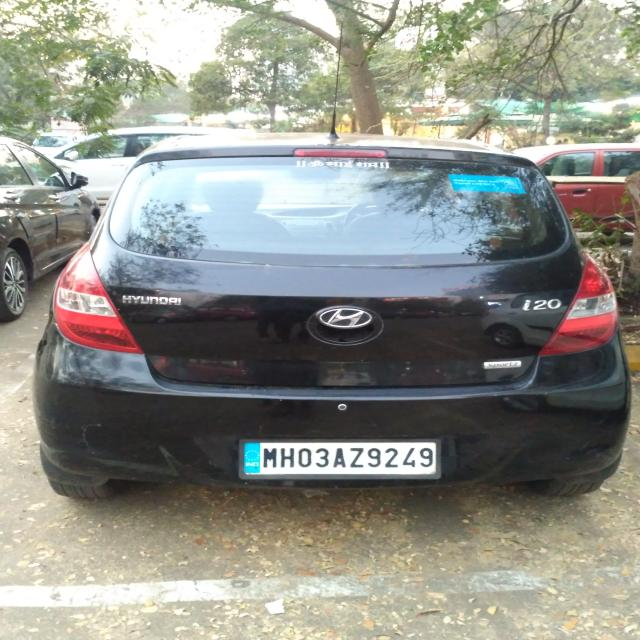Number-Plate: (243, 438, 434, 477)
